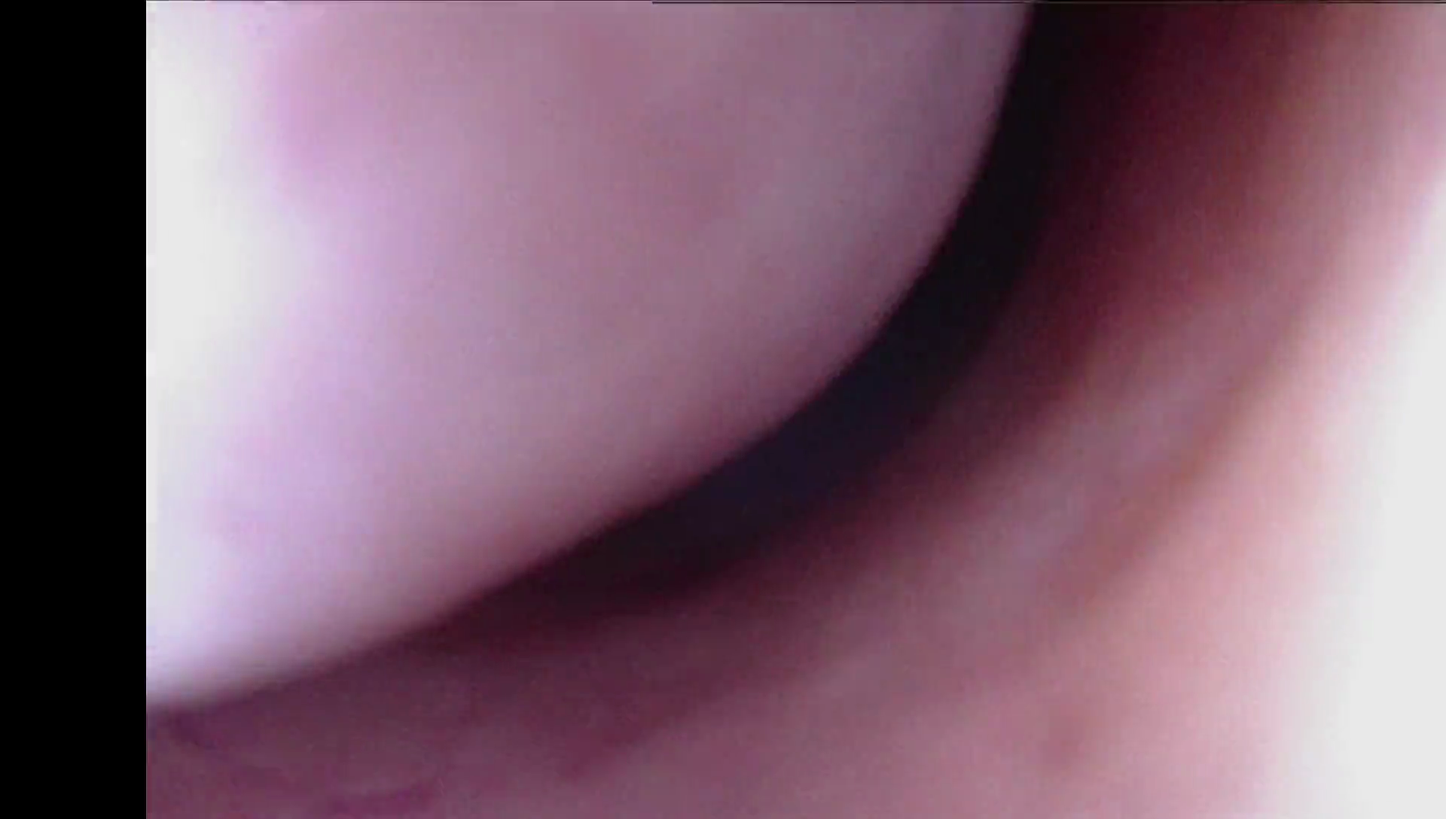close_wall: (149, 8, 624, 677), (1151, 162, 1446, 819)
next: (810, 0, 1138, 456), (487, 370, 919, 653)
